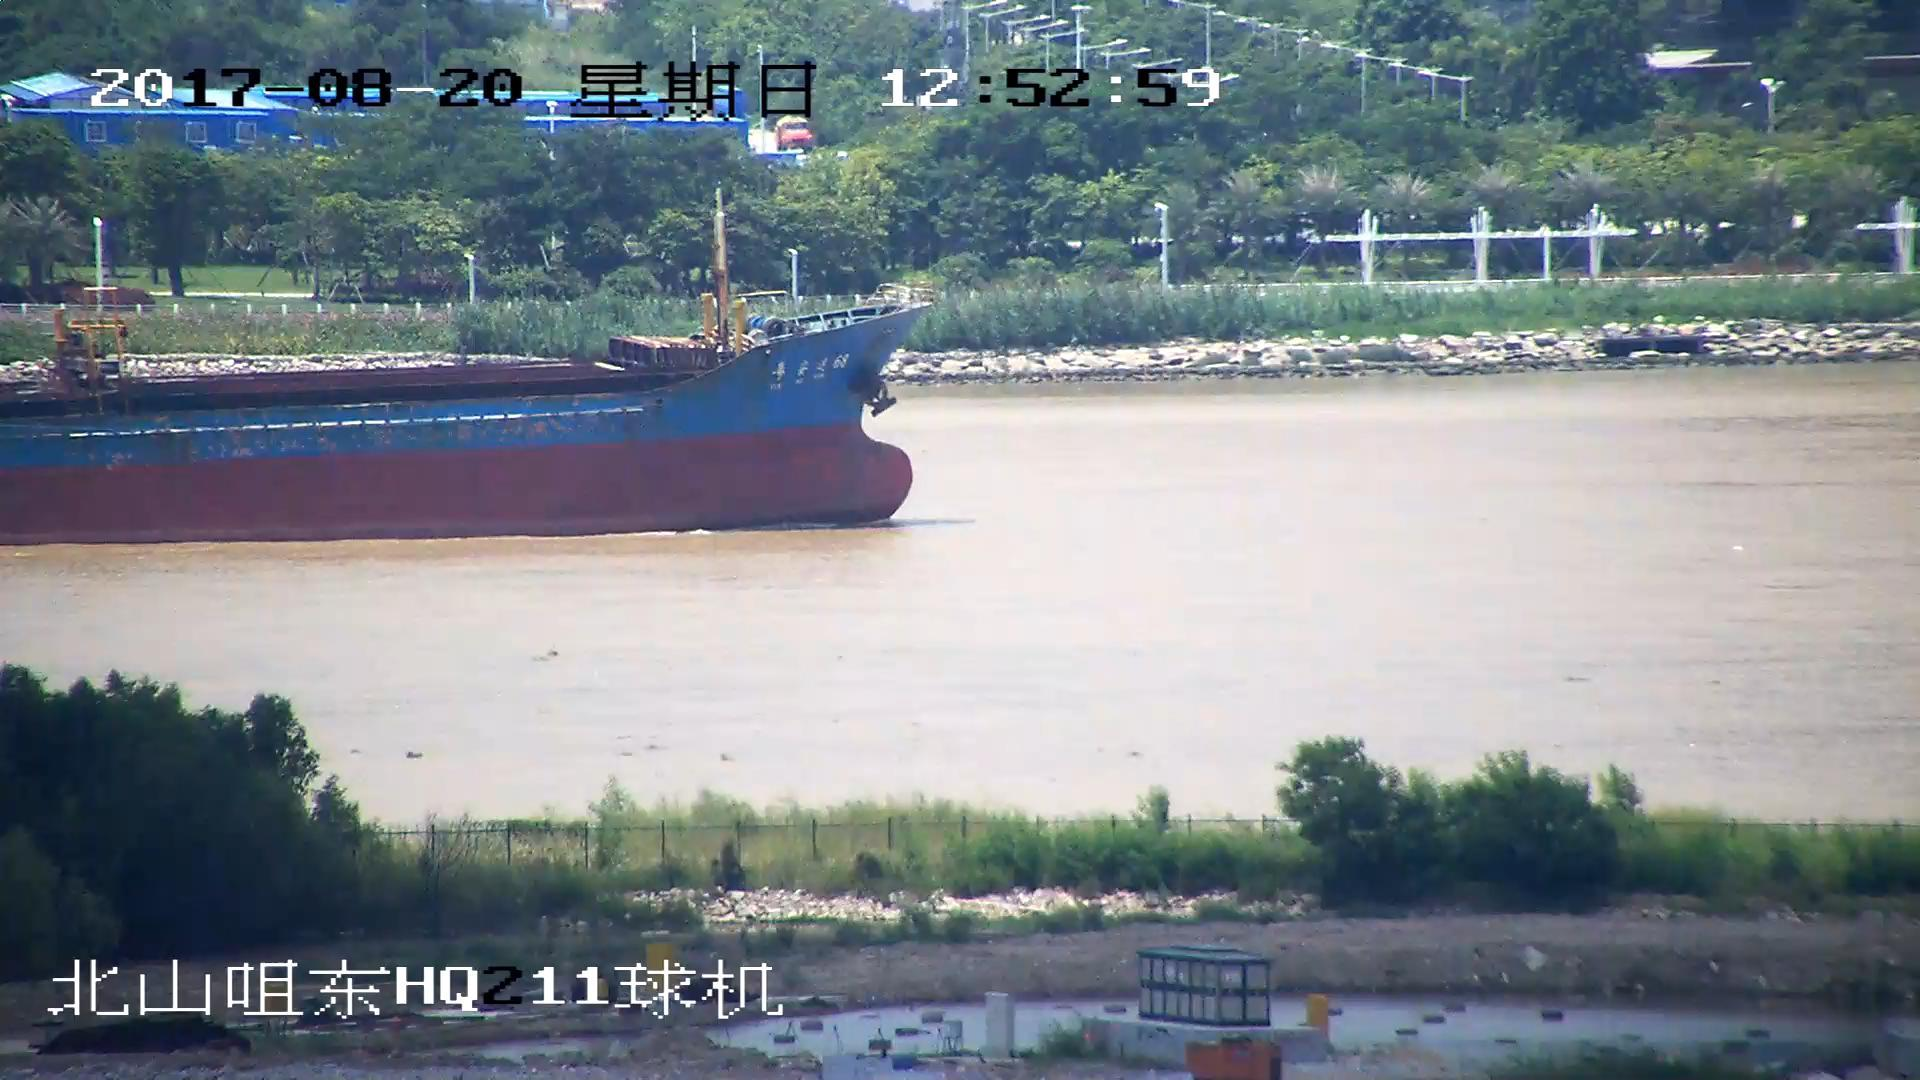Ship: (3, 295, 943, 546)
